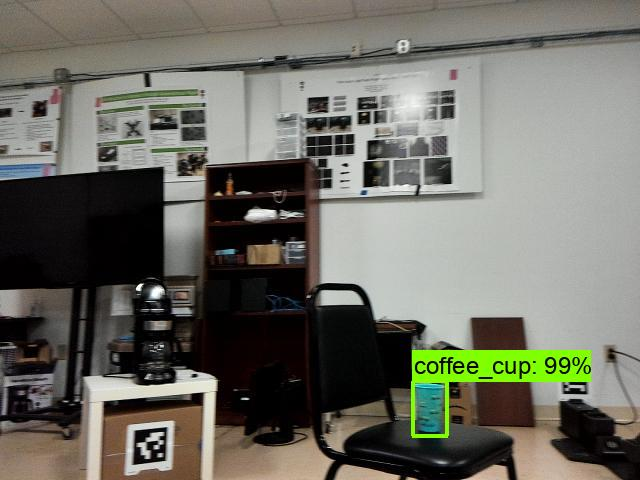coffee_cup: (412, 382, 447, 434)
